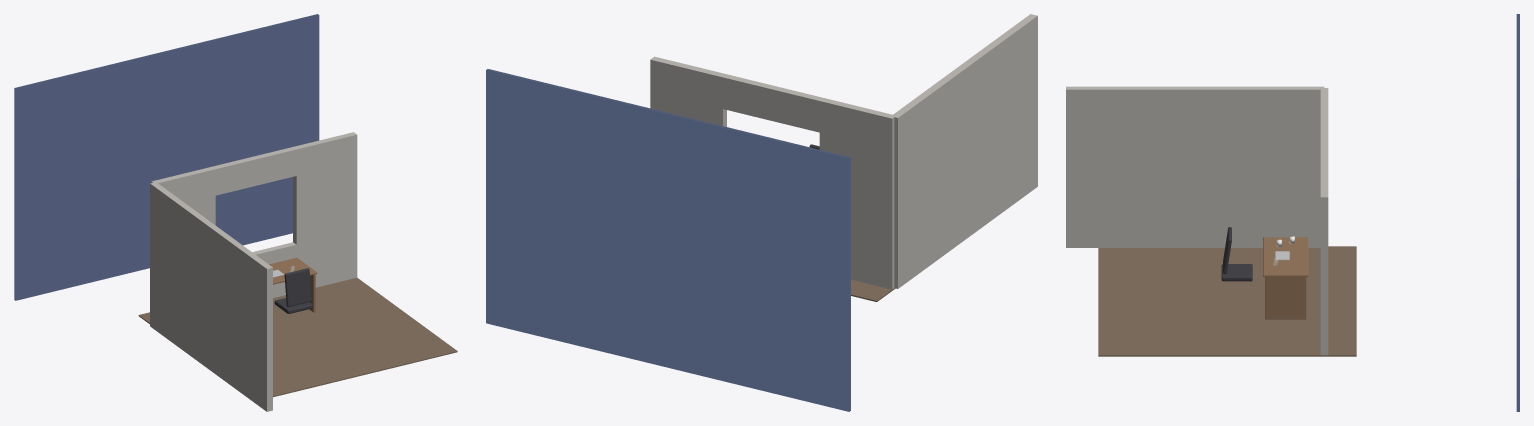
File: poc_desk_3am.glb
3 renders of one model, left to right at view 1: azimuth 30°, elevation 25°; view 2: azimuth 150°, elevation 25°; view 3: azimuth 270°, elevation 25°, orthographic. The views are drawn at different scales.
Parts seen in each view (by area): view 1: City Backdrop, Wall Left, Floor, Wall Back R, Wall Back Head, Wall Back L, Chair Back, Wall Back Sill, Desk Top; view 2: City Backdrop, Wall Left, Wall Back L, Wall Back R, Wall Back Head, Floor; view 3: Wall Left, Floor, Desk Leg 0.66, Wall Back R, Desk Top, City Backdrop, Chair Seat.
Part boxes in pixels (left/top/right/bottom): City Backdrop: left=14, top=14, right=319, bottom=300; Wall Left: left=150, top=182, right=272, bottom=411; Floor: left=138, top=277, right=457, bottom=397; Wall Back R: left=293, top=132, right=357, bottom=287; Wall Back Head: left=212, top=147, right=296, bottom=195; Wall Back L: left=151, top=166, right=215, bottom=225; Chair Back: left=284, top=268, right=311, bottom=306; Wall Back Sill: left=252, top=242, right=296, bottom=297; Desk Top: left=269, top=257, right=317, bottom=284; City Backdrop: left=486, top=69, right=850, bottom=411; Wall Left: left=891, top=14, right=1037, bottom=288; Wall Back L: left=819, top=98, right=895, bottom=289; Wall Back R: left=650, top=56, right=726, bottom=126; Wall Back Head: left=723, top=74, right=823, bottom=132; Floor: left=851, top=279, right=895, bottom=301; Wall Left: left=1066, top=86, right=1324, bottom=247; Floor: left=1098, top=246, right=1356, bottom=356; Desk Leg 0.66: left=1265, top=277, right=1306, bottom=319; Wall Back R: left=1320, top=164, right=1328, bottom=355; Desk Top: left=1263, top=237, right=1308, bottom=276; City Backdrop: left=1516, top=14, right=1519, bottom=411; Chair Seat: left=1221, top=264, right=1252, bottom=281.
Bounding box in the file's own units: 6 × 4 × 7.03.
